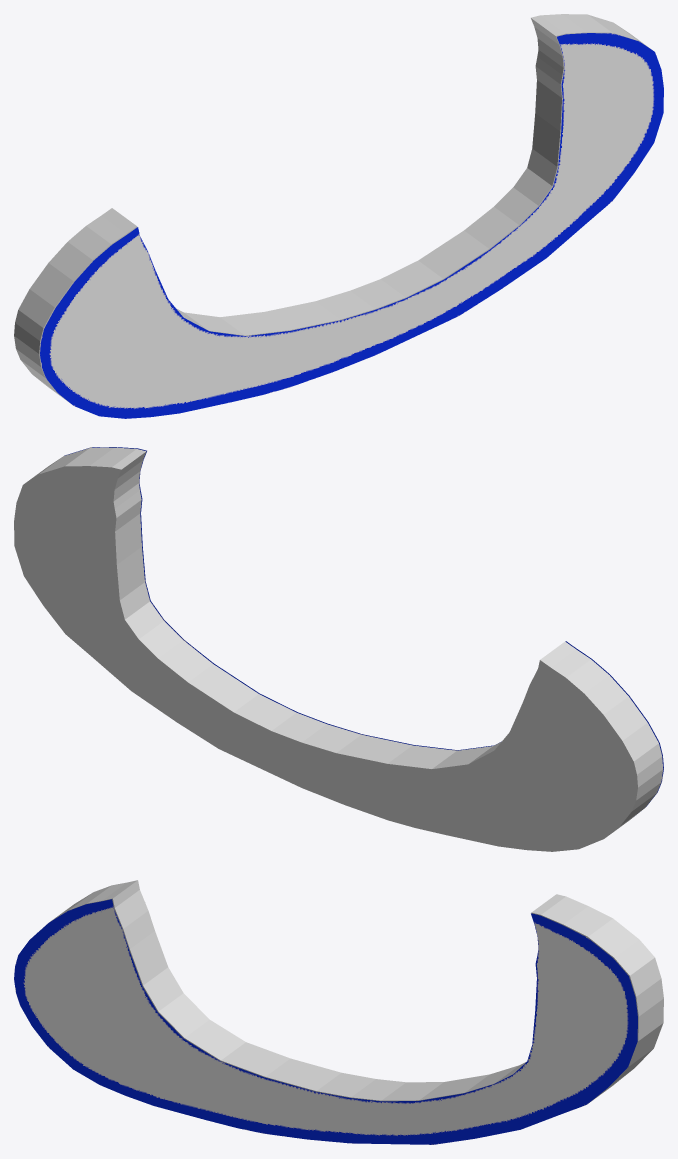
The picture shows the model from 3 angles, top to bottom: view 1: azimuth 30°, elevation 25°; view 2: azimuth 150°, elevation 25°; view 3: azimuth 330°, elevation 25°; orthographic projection.
Parts seen in each view (by area): view 1: In_12_1, In_12_0; view 2: In_12_0, In_12_1; view 3: In_12_1, In_12_0.
Boxes of the visible parts, <box> form: In_12_1: <box>40,33,663,418</box>; In_12_0: <box>14,14,651,404</box>; In_12_0: <box>14,447,663,851</box>; In_12_1: <box>64,447,663,806</box>; In_12_1: <box>14,899,637,1144</box>; In_12_0: <box>50,880,663,1103</box>.
Size of the model in its own units: 7.15 by 3.14 by 0.515.
2 materials, 1 textured.
